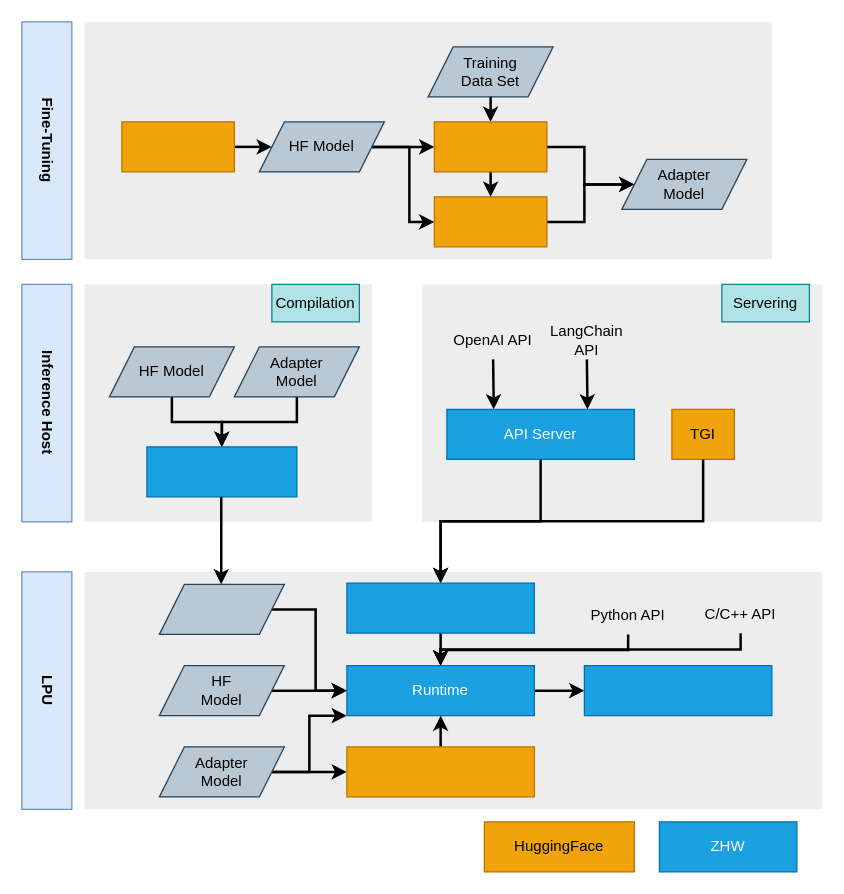
This 844x894 diagram has some shape labels left out. Each missing label, with the centre of its shape:
API Client: the point at 440,607
AutoTrain: the point at 490,146
Compressor: the point at 221,471
Driver: the point at 677,690
Model Card: the point at 177,146
Prebuilt Model: the point at 221,608
QLoRA: the point at 490,221
Transformers: the point at 440,771
